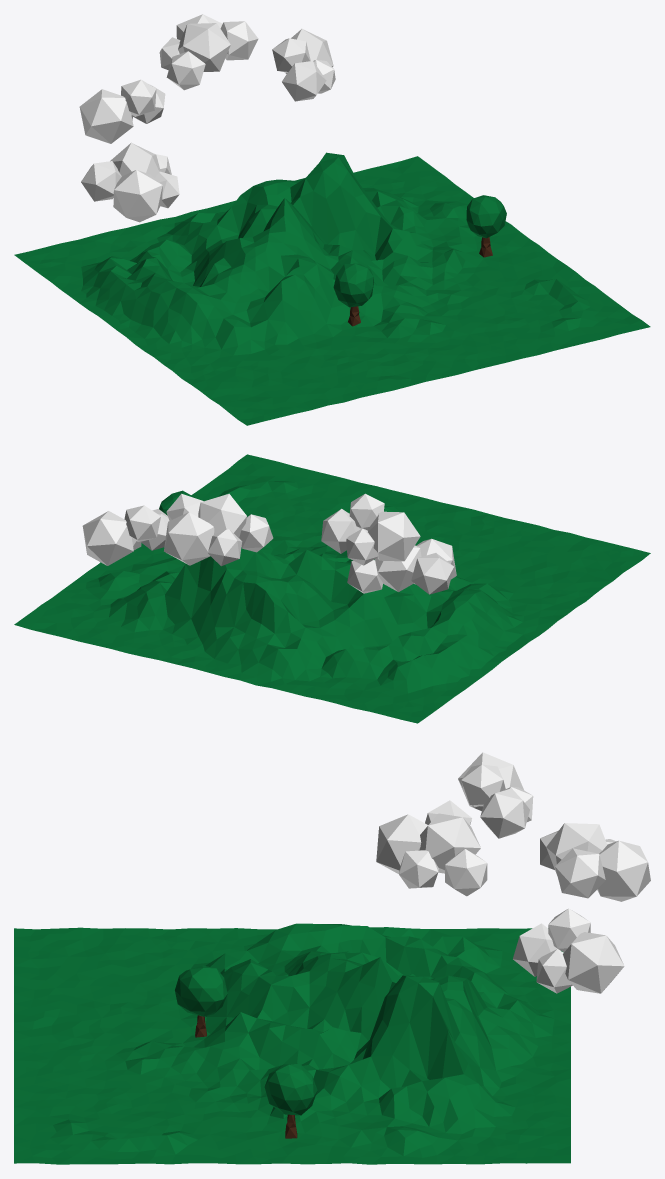
The model's file is newly_exported_env.FBX.
3 views of the same model, one above another, from view 1: azimuth 30°, elevation 25°; view 2: azimuth 150°, elevation 25°; view 3: azimuth 270°, elevation 25° (orthographic). The views are drawn at different scales.
Visible parts, largest first — view 1: terrain, cloud_04, cloud_02, cloud_03, cloud_01, tree_002, tree_01; view 2: terrain, cloud_02, cloud_03, cloud_04, cloud_01; view 3: terrain, cloud_04, cloud_02, cloud_01, cloud_03, tree_01, tree_002.
Part boxes in pixels (x1,y1,x2,y2): terrain: (14, 152, 650, 425); cloud_04: (81, 142, 179, 222); cloud_02: (159, 14, 258, 90); cloud_03: (79, 79, 165, 143); cloud_01: (272, 29, 335, 101); tree_002: (333, 263, 373, 326); tree_01: (466, 195, 506, 257); terrain: (14, 454, 650, 723); cloud_02: (164, 493, 273, 566); cloud_03: (321, 493, 420, 565); cloud_04: (347, 538, 456, 594); cloud_01: (82, 505, 169, 565); terrain: (14, 923, 570, 1164); cloud_04: (376, 800, 487, 896); cloud_02: (540, 823, 650, 901); cloud_01: (513, 908, 624, 993); cloud_03: (458, 752, 533, 838); tree_01: (264, 1063, 317, 1138); tree_002: (175, 965, 227, 1037).
Bounding box in the file's own units: 1000 × 432 × 1143.
